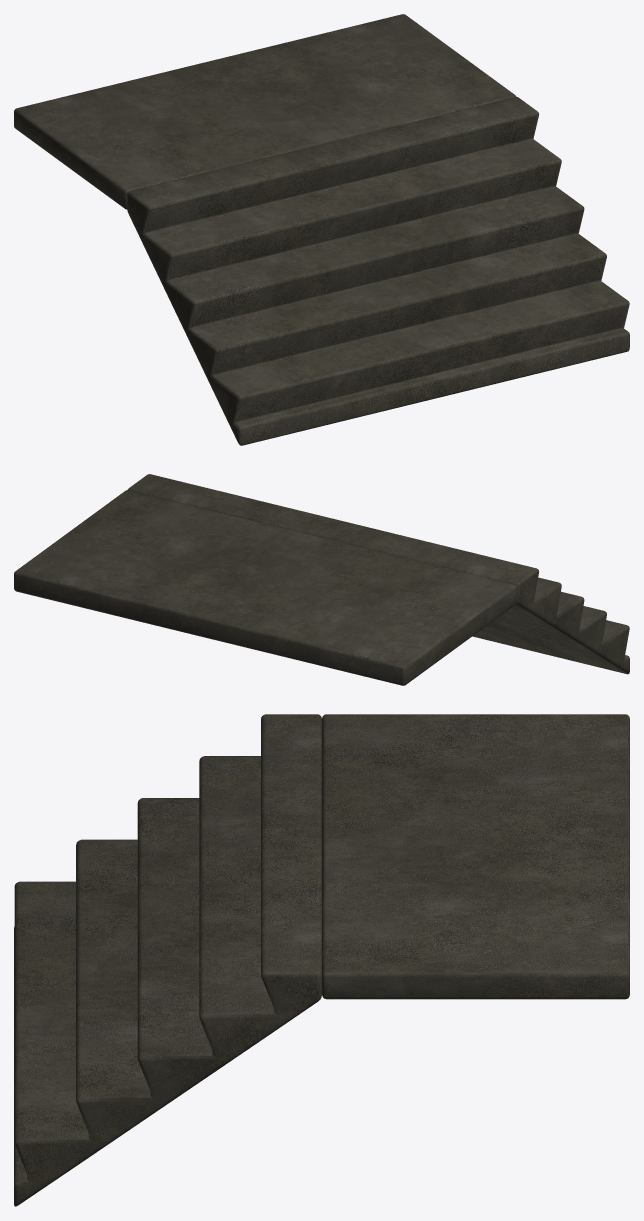
File: stairs_4.glb
The picture shows the model from 3 angles, top to bottom: view 1: azimuth 30°, elevation 25°; view 2: azimuth 150°, elevation 25°; view 3: azimuth 270°, elevation 25°; orthographic projection. The views are drawn at different scales.
Visible parts, largest first — view 1: stairs_4; view 2: stairs_4; view 3: stairs_4.
Boxes of the visible parts, left/top/right/bottom form: stairs_4: left=14, top=14, right=629, bottom=445; stairs_4: left=14, top=474, right=629, bottom=685; stairs_4: left=14, top=714, right=629, bottom=1206.
Size of the model in its own units: 4 by 1.69 by 4.
1 material, 1 textured.
